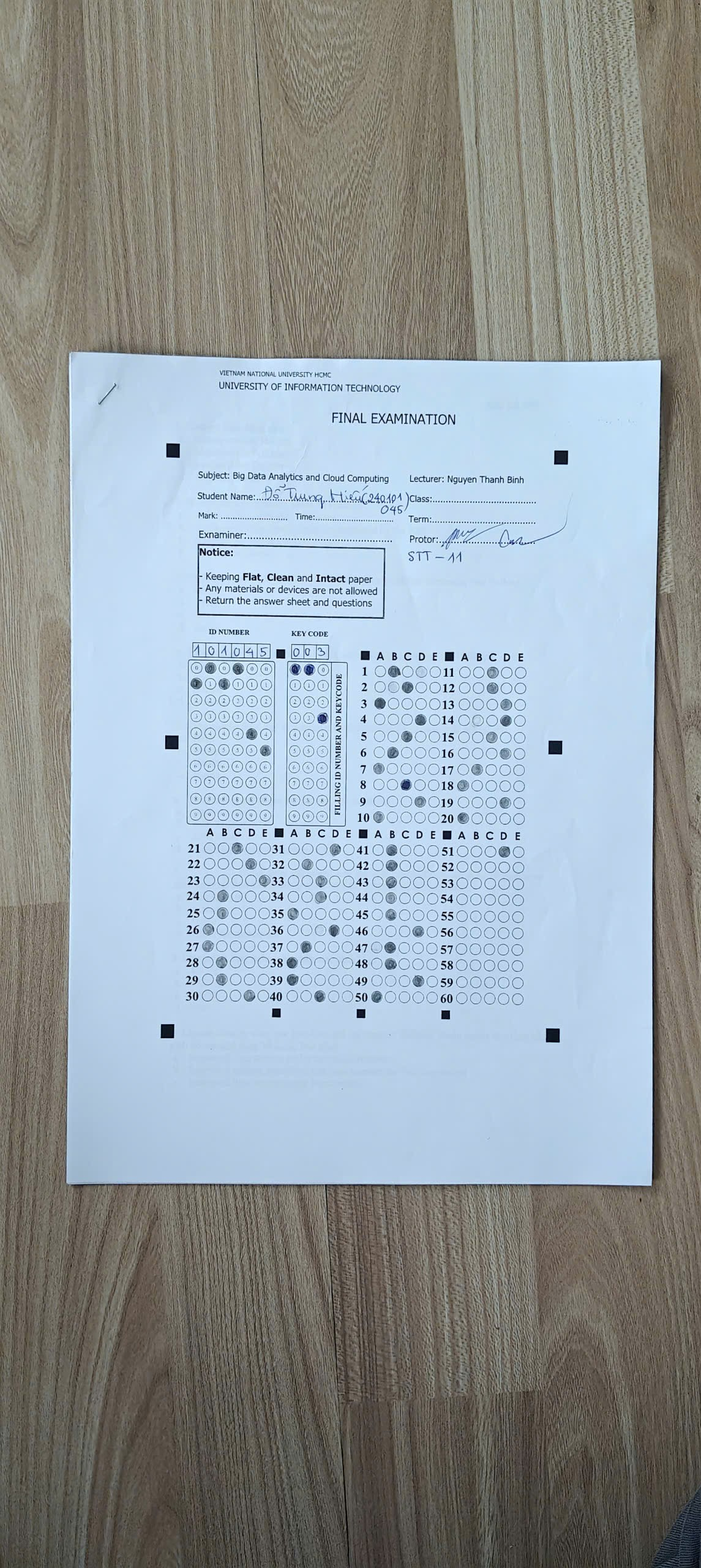info_region: (188, 662, 330, 826)
paper_region: (170, 454, 557, 1036)
q_1_20: (365, 655, 529, 835)
q_21_60: (186, 833, 527, 1014)
